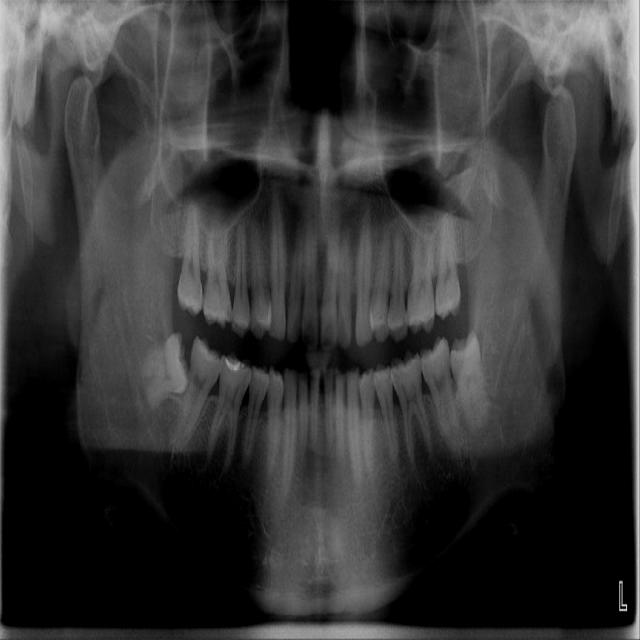Filling: (225, 356, 245, 370)
impacted tooth: (139, 333, 189, 408), (451, 332, 488, 432)
